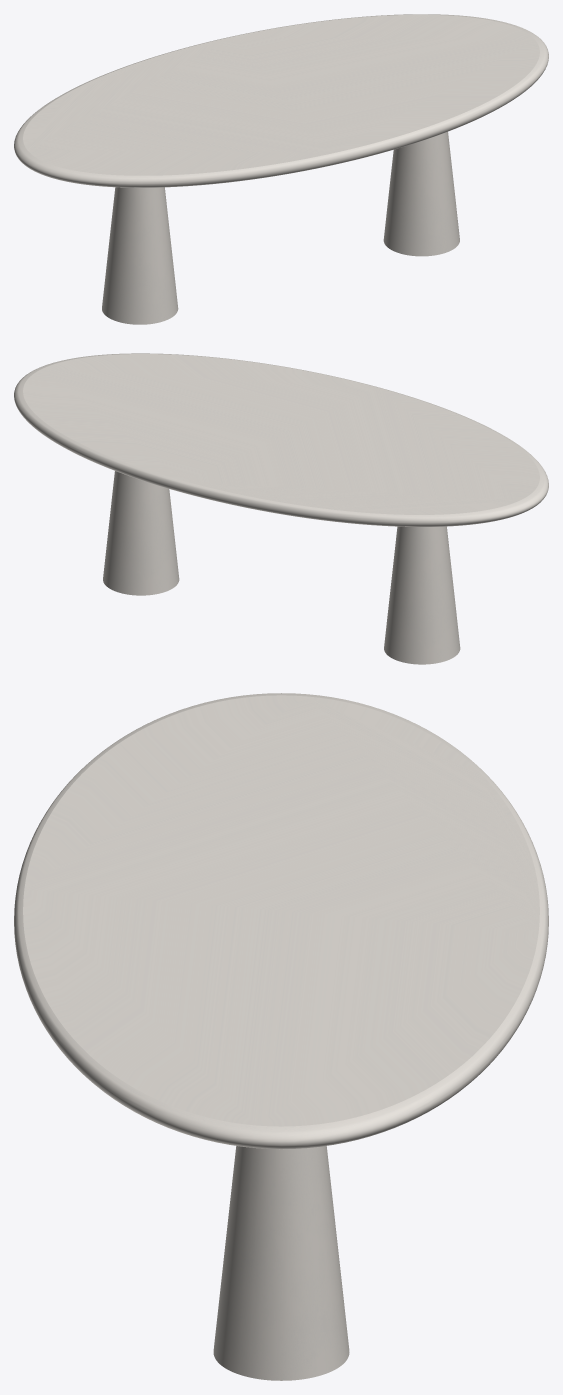
The model's file is pearlwhite_ellips_round_pebble.glb.
3 views of the same model, one above another, from view 1: azimuth 30°, elevation 25°; view 2: azimuth 150°, elevation 25°; view 3: azimuth 270°, elevation 25° (orthographic). The views are drawn at different scales.
Parts seen in each view (by area): view 1: round_ellips, pebble; view 2: round_ellips, pebble; view 3: round_ellips, pebble.
Part boxes in pixels (left/top/right/bottom): round_ellips: left=14, top=14, right=548, bottom=187; pebble: left=102, top=131, right=459, bottom=324; round_ellips: left=14, top=353, right=548, bottom=526; pebble: left=103, top=471, right=460, bottom=664; round_ellips: left=14, top=693, right=548, bottom=1149; pebble: left=213, top=1146, right=349, bottom=1380.
Bounding box in the file's own units: 7.5 × 2.5 × 3.8.
Materials: 1 (1 with a texture image).
